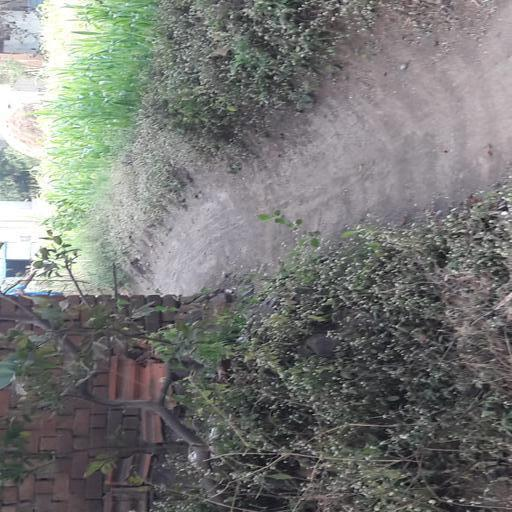vehicle_track: (146, 0, 512, 293)
